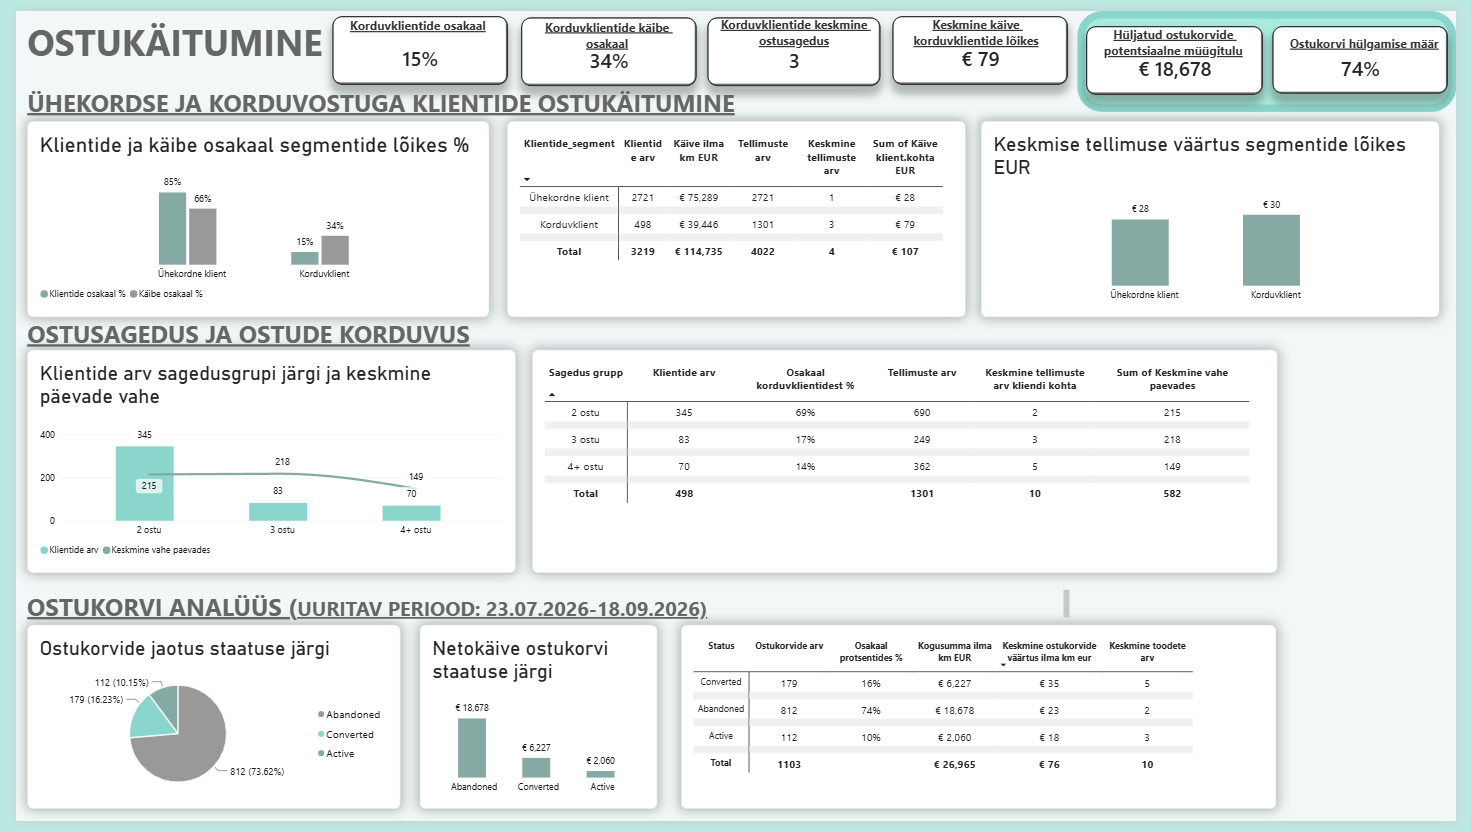

The dashboard page shown, as its layout file describes it:
{"tool":"powerbi","page":{"name":"OSTUKÄITUMINE","canvas":[1920,1080],"ordinal":1},"visuals":[{"type":"shape","box":[1414.7,0,505.3,134.7],"z":0},{"type":"textbox","box":[14.5,8.7,440.6,71.2],"z":1000},{"type":"cardVisual","fields":{"Data":["Avg(2 1 Ühekord kord kl käitumine.Klientide osakaal %)"]},"box":[421.4,6.3,234.5,91.9],"z":2000},{"type":"cardVisual","fields":{"Data":["Avg(2 1 Ühekord kord kl käitumine.Käibe osakaal %)"]},"box":[673.3,7.9,234.5,91.9],"z":3000},{"type":"cardVisual","fields":{"Data":["Sum(2 1 Ühekord kord kl käitumine.Käive klient.kohta EUR)"]},"box":[1169.1,6.3,234.5,91.9],"z":4000},{"type":"cardVisual","fields":{"Data":["2 2 Ostusagedus ja ostude kord.Korduvklientide_ostusagedus"]},"box":[922,7.9,231.3,91.9],"z":5000},{"type":"cardVisual","fields":{"Data":["Sum(2 3 Ostukorvi analüüs.Osakaal protsentides % vana)"]},"box":[1674.5,20.6,234.5,90.3],"z":6000},{"type":"clusteredColumnChart","title":"Klientide ja käibe osakaal segmentide lõikes %","fields":{"Category":["2 1 Ühekord kord kl käitumine.Klientide_segment"],"Y":["Sum(2 1 Ühekord kord kl käitumine.Klientide_osakaal_%)","Avg(2 1 Ühekord kord kl käitumine.Käibe_osakaal_%)"]},"box":[14.3,147.3,616.2,261.4],"z":7000},{"type":"clusteredColumnChart","title":"Keskmise tellimuse väärtus segmentide lõikes EUR","fields":{"Category":["2 1 Ühekord kord kl käitumine.Klientide_segment"],"Y":["Sum(2 1 Ühekord kord kl käitumine.Keskmine_tellimus_ilma_km_EUR)"]},"box":[1286.3,147.3,611.5,261.4],"z":8000},{"type":"pivotTable","fields":{"Rows":["2 1 Ühekord kord kl käitumine.Klientide_segment"],"Values":["Sum(2 1 Ühekord kord kl käitumine.Klientide_arv)","Sum(2 1 Ühekord kord kl käitumine.Käive ilma km EUR)","Sum(2 1 Ühekord kord kl käitumine.Tellimuste_arv)","Sum(2 1 Ühekord kord kl käitumine.Keskmine_tellimuste_arv)","Sum(2 1 Ühekord kord kl käitumine.Käive_klient_kohta_EUR)"]},"box":[654.3,147.3,611.5,261.4],"z":9000},{"type":"lineStackedColumnComboChart","title":"Klientide arv sagedusgrupi järgi ja keskmine päevade vahe","fields":{"Category":["2 2 Ostusagedus ja ostude kord.Sagedus_grupp"],"Y":["Sum(2 2 Ostusagedus ja ostude kord.Klientide_arv)"],"Y2":["Sum(2 2 Ostusagedus ja ostude kord.Keskmine vahe paevades)"]},"box":[14.3,451.5,651.1,297.8],"z":10000},{"type":"pivotTable","fields":{"Rows":["2 2 Ostusagedus ja ostude kord.Sagedus grupp"],"Values":["Sum(2 2 Ostusagedus ja ostude kord.Klientide arv)","2 2 Ostusagedus ja ostude kord.Osakaal korduvklientidest %","Sum(2 2 Ostusagedus ja ostude kord.Tellimuste arv)","Sum(2 2 Ostusagedus ja ostude kord.Keskmine tellimuste arv kliendi kohta)","Sum(2 2 Ostusagedus ja ostude kord.Keskmine vahe paevades)"]},"box":[687.5,451.5,993.3,297.8],"z":11000},{"type":"pieChart","title":"Ostukorvide jaotus staatuse järgi","fields":{"Category":["2 3 Ostukorvi analüüs.Status"],"Y":["Sum(2 3 Ostukorvi analüüs.Ostukorvide arv)"]},"box":[14.3,819,497.4,245.5],"z":12000},{"type":"clusteredColumnChart","title":"Netokäive ostukorvi staatuse järgi","fields":{"Category":["2 3 Ostukorvi analüüs.Status"],"Y":["Sum(2 3 Ostukorvi analüüs.Kogusumma ilma km EUR)"]},"box":[538.6,819,316.8,245.5],"z":13000},{"type":"pivotTable","fields":{"Rows":["2 3 Ostukorvi analüüs.Status"],"Values":["Sum(2 3 Ostukorvi analüüs.Ostukorvide arv)","2 3 Ostukorvi analüüs.Osakaal protsentides %","Sum(2 3 Ostukorvi analüüs.Kogusumma ilma km EUR)","Sum(2 3 Ostukorvi analüüs.Keskmine ostukorvide väärtus ilma km eur)","Sum(2 3 Ostukorvi analüüs.Keskmine toodete arv)"]},"box":[887.1,819,793.7,245.5],"z":14000},{"type":"textbox","box":[14.3,771.5,1389.3,47.5],"z":15000},{"type":"textbox","box":[14.3,99.8,958.4,47.5],"z":16000},{"type":"textbox","box":[14.3,408.7,763.6,84],"z":17000},{"type":"cardVisual","fields":{"Data":["Sum(2 3 Ostukorvi analüüs.Kogusumma ilma km EUR)"]},"box":[1427.3,20.6,236,91.9],"z":18000},{"type":"textbox","box":[26.7,753.3,503.3,83.3],"z":19000},{"type":"textbox","box":[441.3,8.7,188.4,45.3],"z":20000},{"type":"textbox","box":[687.5,9.5,199.6,58.6],"z":21000},{"type":"textbox","box":[1169.1,6.3,223.4,65],"z":22000},{"type":"textbox","box":[922,6.3,231.3,61.8],"z":23000},{"type":"textbox","box":[1425.7,20.6,236,60.2],"z":24000},{"type":"textbox","box":[1674.5,31.7,245.5,47.5],"z":25000}]}

Visuals, with their boxes in screenshot pixels (x1, y1, x2, y2), scaled from the page's 1920x1080 canvas onto the 1471x832 screenshot:
shape: 1084,0,1470,104
textbox: 11,7,349,62
cardVisual - Avg(2 1 Ühekord kord kl käitumine.Klientide osakaal %): 323,5,503,76
cardVisual - Avg(2 1 Ühekord kord kl käitumine.Käibe osakaal %): 516,6,696,77
cardVisual - Sum(2 1 Ühekord kord kl käitumine.Käive klient.kohta EUR): 896,5,1075,76
cardVisual - 2 2 Ostusagedus ja ostude kord.Korduvklientide_ostusagedus: 706,6,884,77
cardVisual - Sum(2 3 Ostukorvi analüüs.Osakaal protsentides % vana): 1283,16,1463,85
"Klientide ja käibe osakaal segmentide lõikes %" clusteredColumnChart: 11,113,483,315
"Keskmise tellimuse väärtus segmentide lõikes EUR" clusteredColumnChart: 985,113,1454,315
pivotTable - 2 1 Ühekord kord kl käitumine.Klientide_segment x Sum(2 1 Ühekord kord kl käitumine.Klientide_arv): 501,113,970,315
"Klientide arv sagedusgrupi järgi ja keskmine päevade vahe" lineStackedColumnComboChart: 11,348,510,577
pivotTable - 2 2 Ostusagedus ja ostude kord.Sagedus grupp x Sum(2 2 Ostusagedus ja ostude kord.Klientide arv): 527,348,1288,577
"Ostukorvide jaotus staatuse järgi" pieChart: 11,631,392,820
"Netokäive ostukorvi staatuse järgi" clusteredColumnChart: 413,631,655,820
pivotTable - 2 3 Ostukorvi analüüs.Status x Sum(2 3 Ostukorvi analüüs.Ostukorvide arv): 680,631,1288,820
textbox: 11,594,1075,631
textbox: 11,77,745,113
textbox: 11,315,596,380
cardVisual - Sum(2 3 Ostukorvi analüüs.Kogusumma ilma km EUR): 1094,16,1274,87
textbox: 20,580,406,644
textbox: 338,7,482,42
textbox: 527,7,680,52
textbox: 896,5,1067,55
textbox: 706,5,884,52
textbox: 1092,16,1273,62
textbox: 1283,24,1470,61
